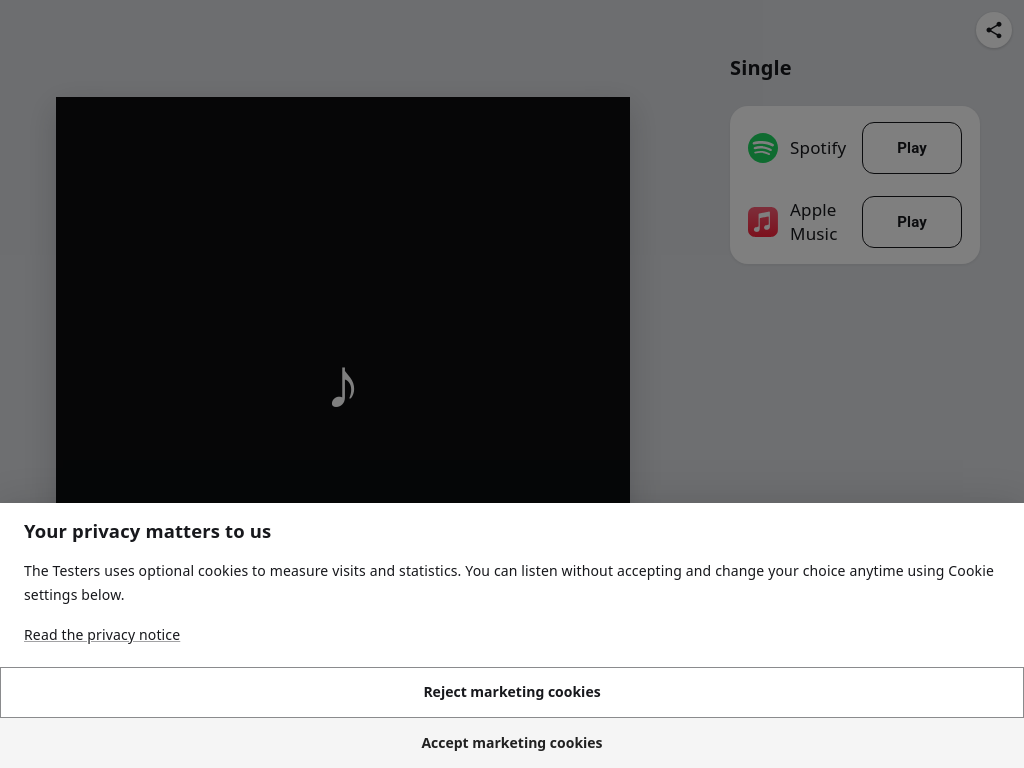
Test: smart-link advertising consent › keeps rejection effective when device storage is blocked
Click the button "Reject marketing cookies": (512, 692) x1=0 y1=667 x2=1023 y2=718
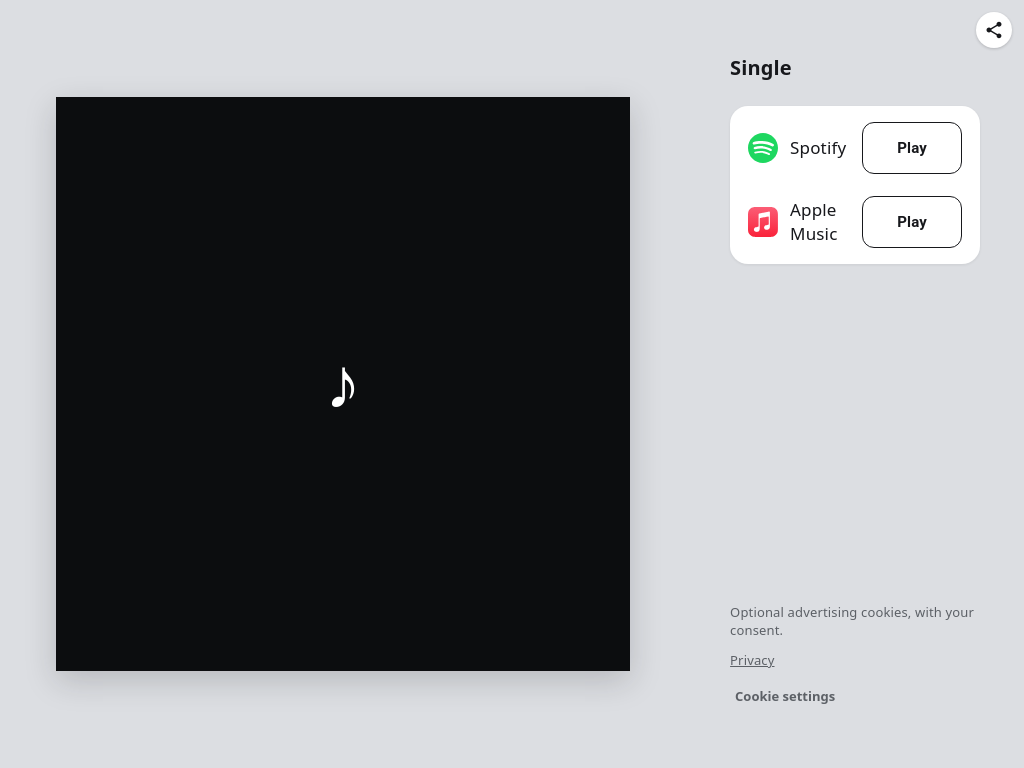
Click the link "Spotify Play": (818, 148) x1=748 y1=114 x2=962 y2=182
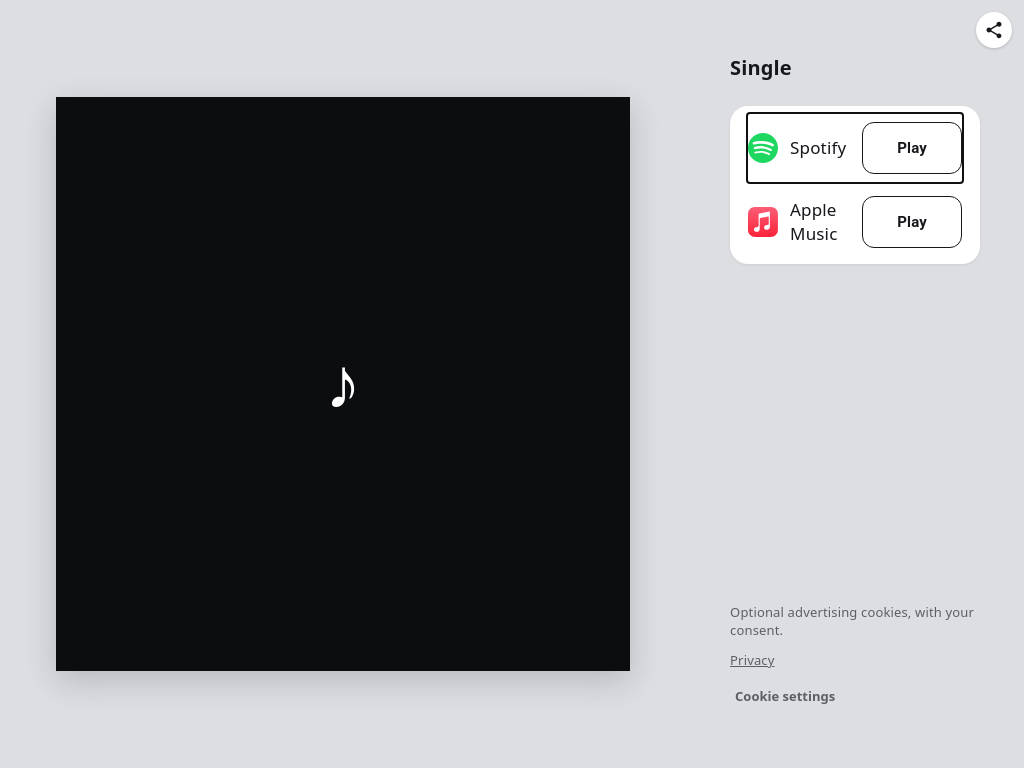
Click the button "Cookie settings": (785, 697) x1=730 y1=681 x2=840 y2=712
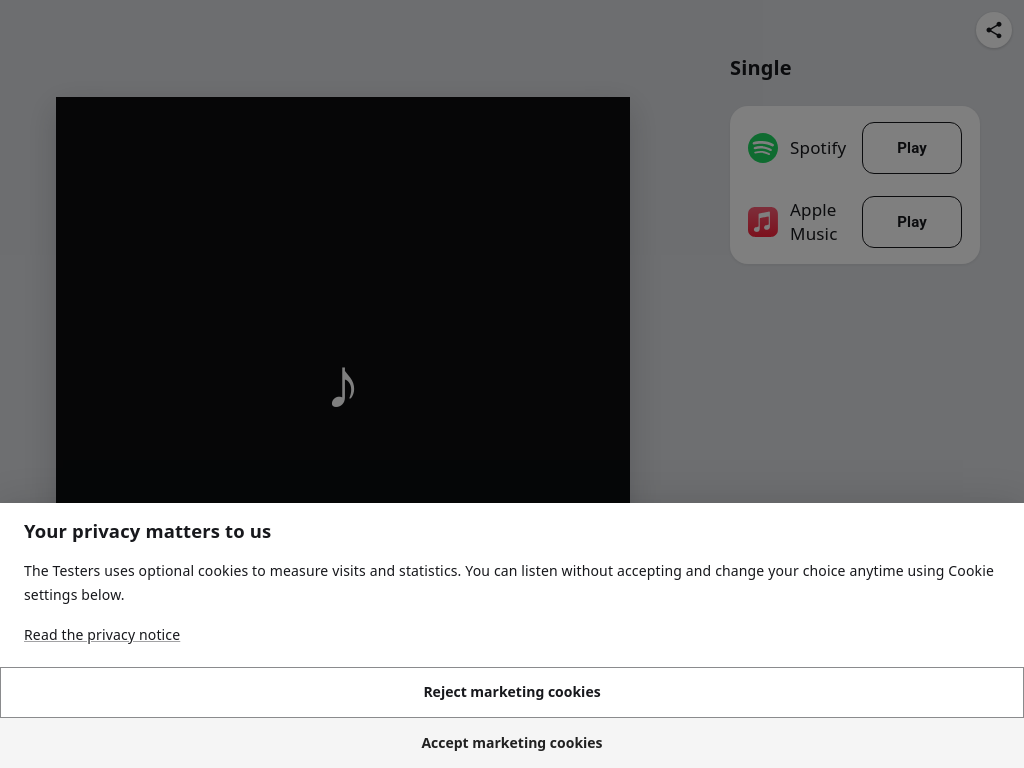
expect the dialog is shown: met, box x1=0 y1=503 x2=1023 y2=767
